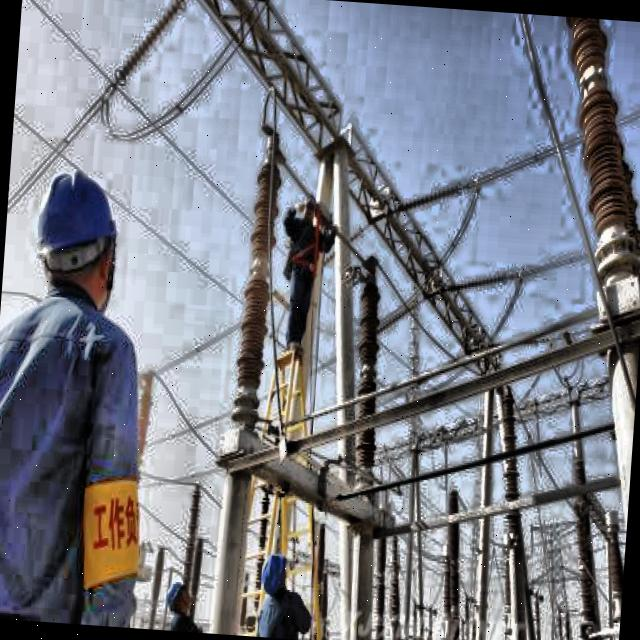helmet: (25, 160, 128, 325), (258, 550, 295, 602), (163, 577, 196, 622)
